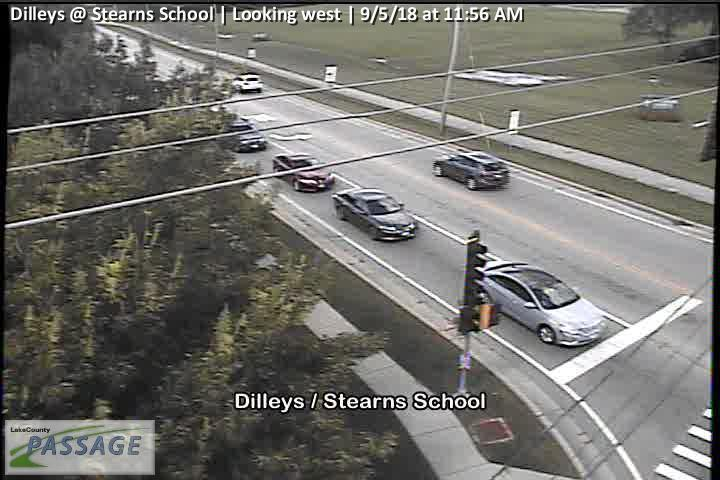SUV: (432, 151, 510, 190), (229, 74, 265, 92)
Sedan: (470, 261, 606, 347), (332, 186, 417, 242), (272, 151, 333, 193), (213, 122, 266, 153)
